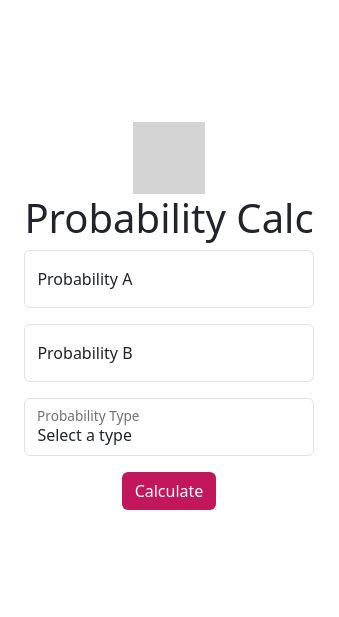
Test: CalculatorCalculateProbability Component › CalculatorCalculateProbability - Validation Errors › sets validation errors when the API response contains validation errors
# Fill in the form fields
Type "0.5" into the number field labelled "Probability A" at [169, 279], box [24,250,314,308]
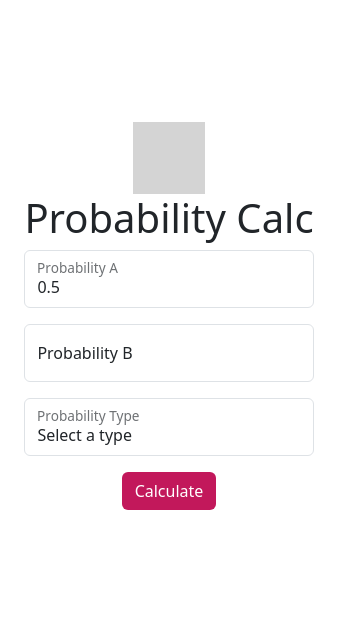
Type "0.5" into the number field labelled "Probability B" at [169, 353], box [24,324,314,382]
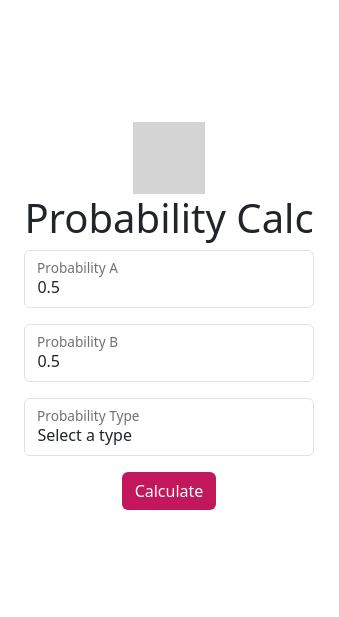
# Select 'Combined With' from the dropdown
Select "Combined With" in the dropdown labelled "Probability Type" at [169, 427], box [24,398,314,456]
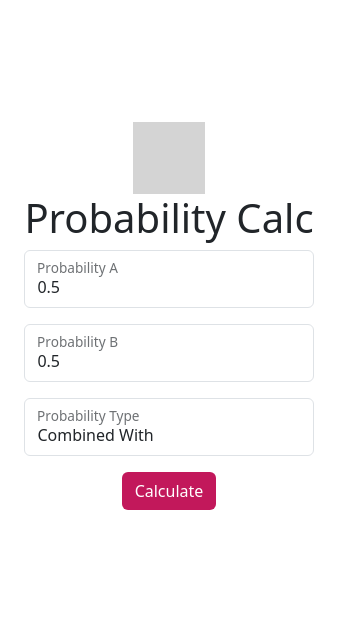
# Attempt to submit without selecting a type
Click the button "Calculate" at [169, 491], box [122,472,216,510]
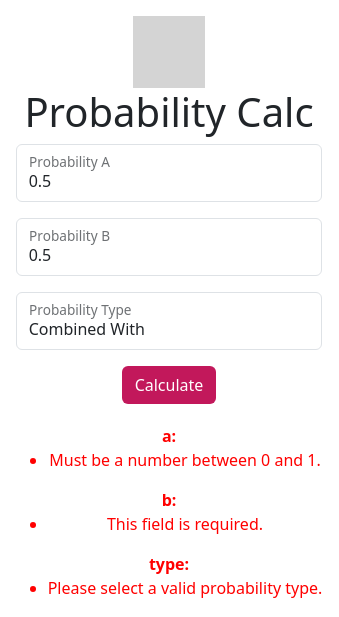
Expected: the list item "Must be a number between 0 and 1." is shown, [48,448,322,472]
Expected: the list item "This field is required." is shown, [107,513,263,535]
Expected: the list item "Please select a valid probability type." is shown, [48,576,322,600]
